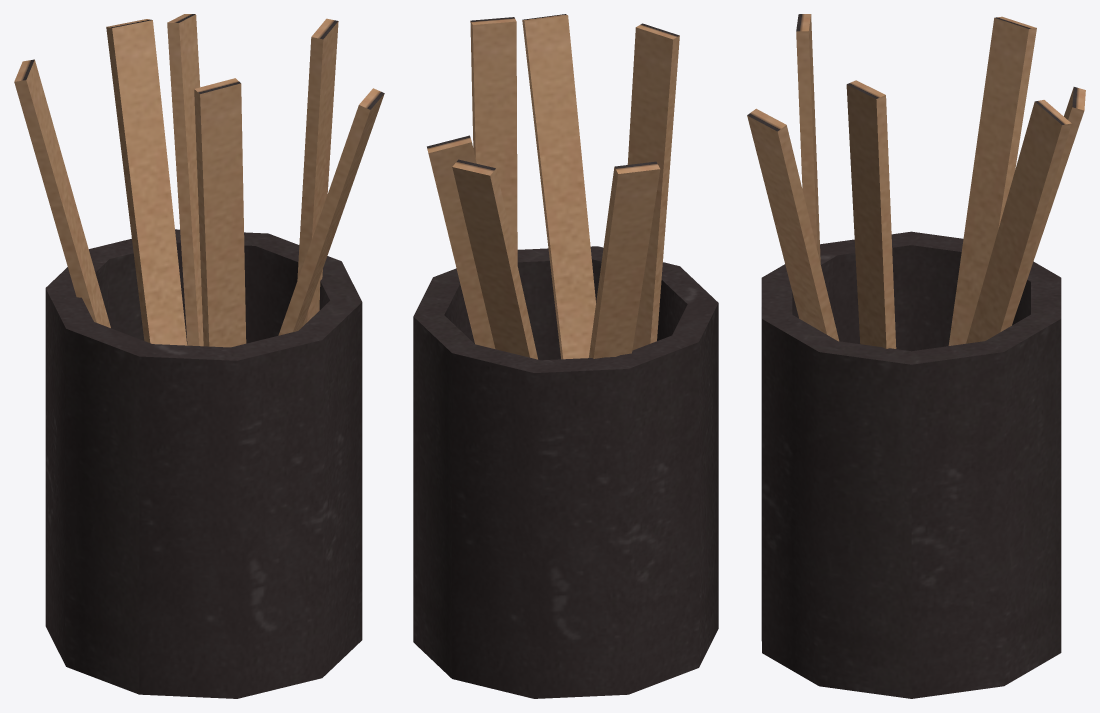
File: stickstand.fbx
3 renders of one model, left to right at view 1: azimuth 30°, elevation 25°; view 2: azimuth 150°, elevation 25°; view 3: azimuth 270°, elevation 25°, orthographic. The views are drawn at different scales.
Visible parts, largest first — view 1: stickstand; view 2: stickstand; view 3: stickstand.
Part boxes in pixels (<box>): stickstand: <box>14,14,384,698</box>; stickstand: <box>413,14,718,698</box>; stickstand: <box>747,14,1085,698</box>.
Size of the model in its own units: 11.11 by 22.54 by 11.71.
